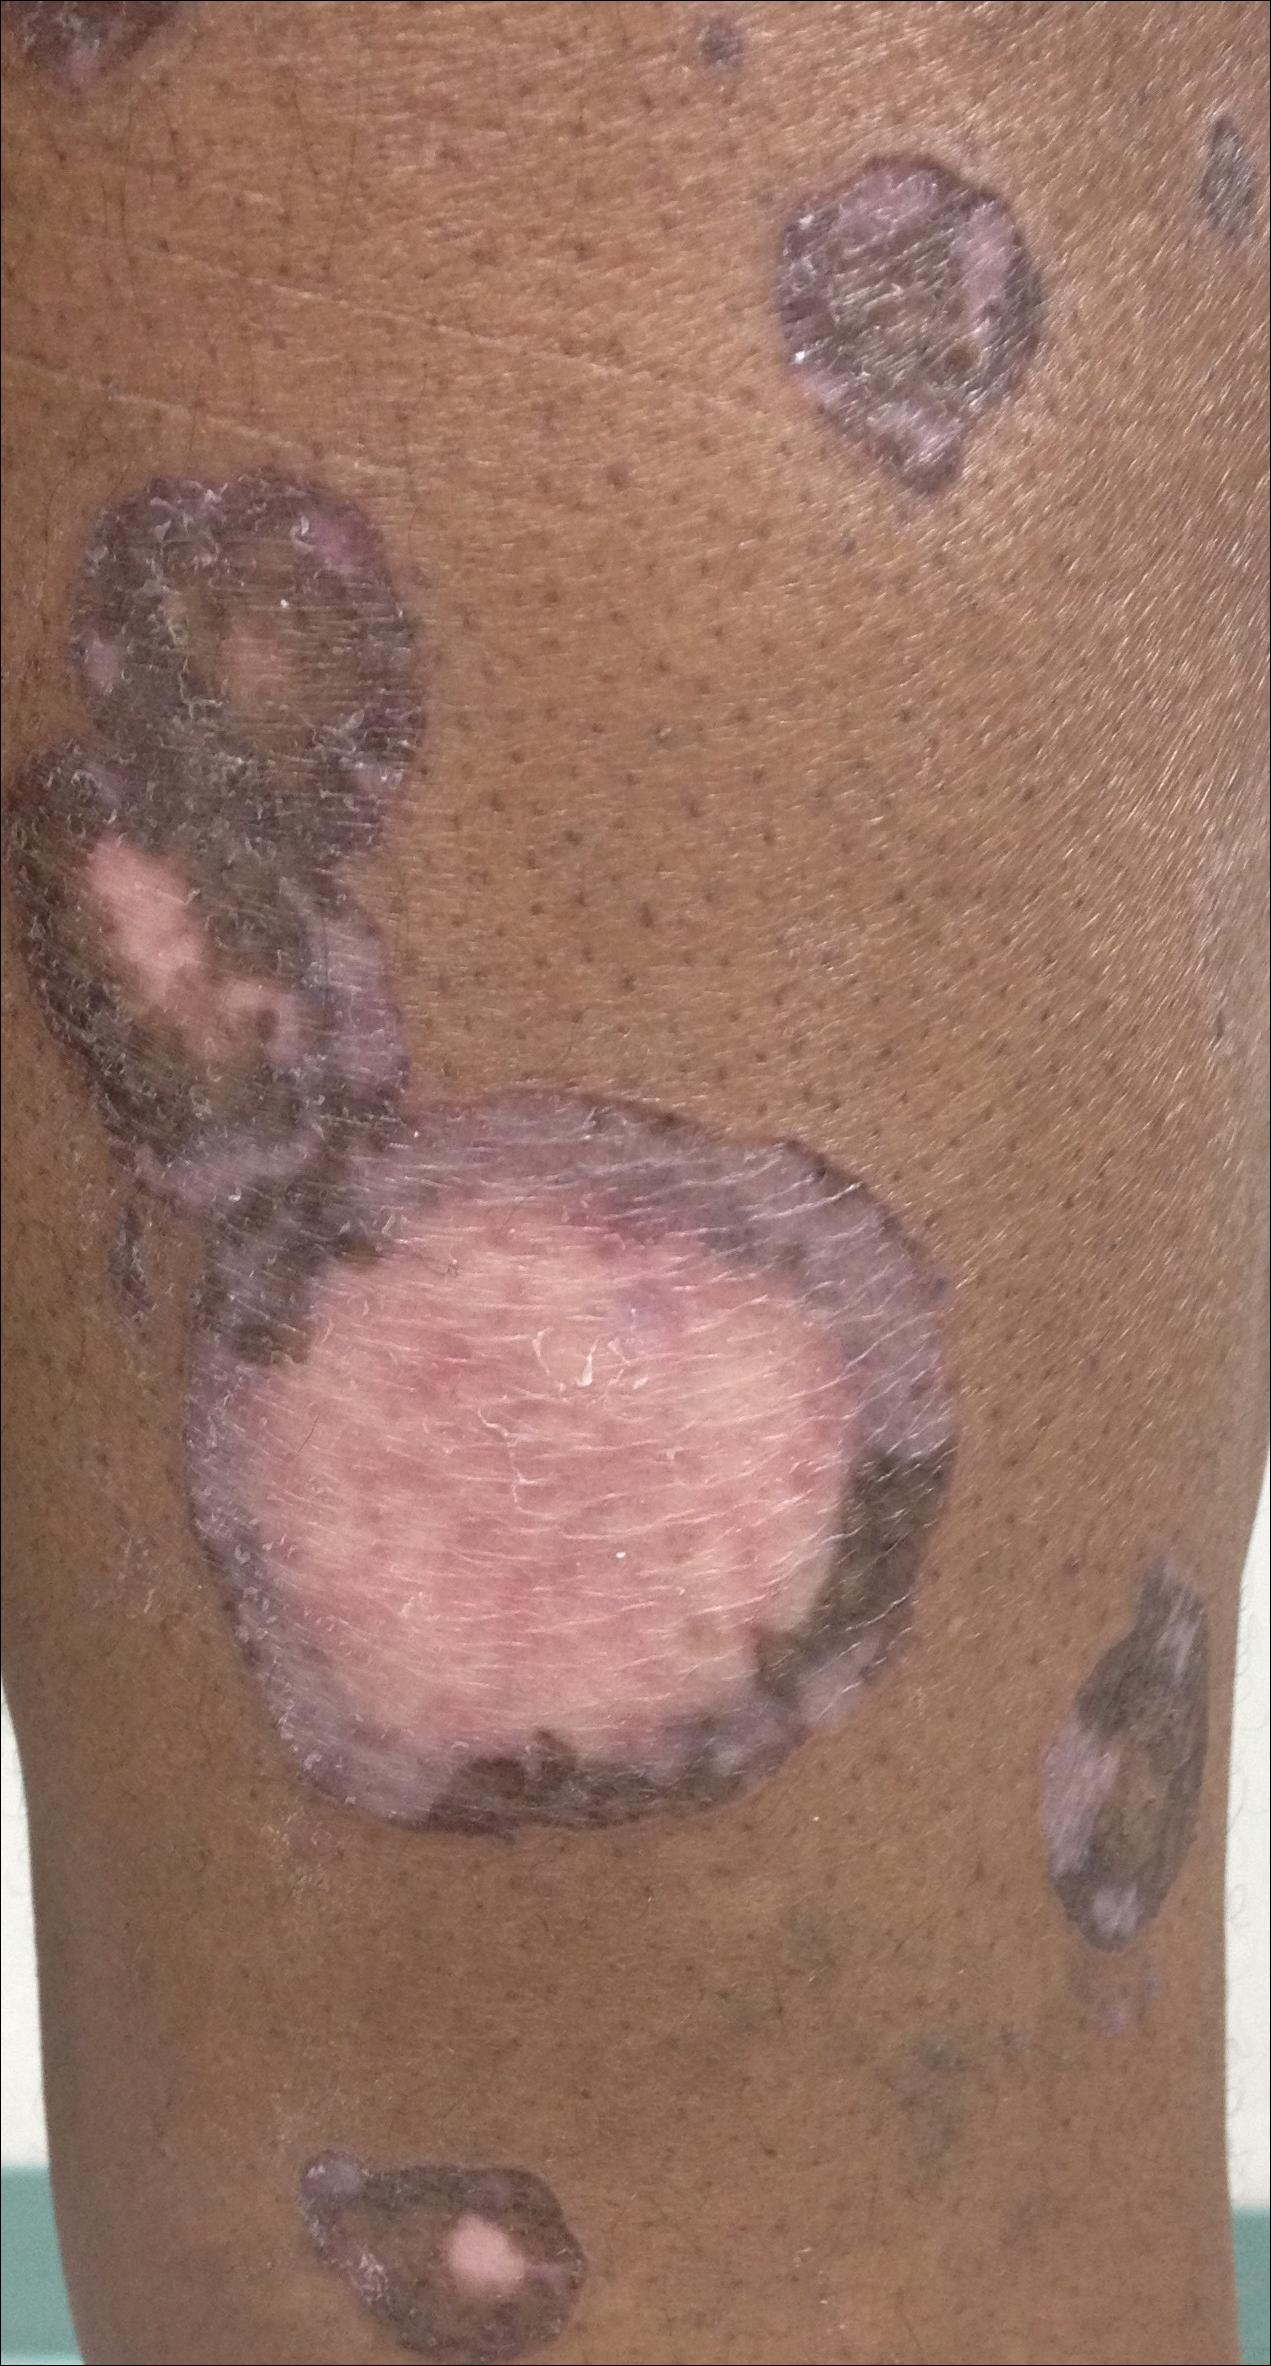annular lichen planus: (42, 505, 1190, 2310)
